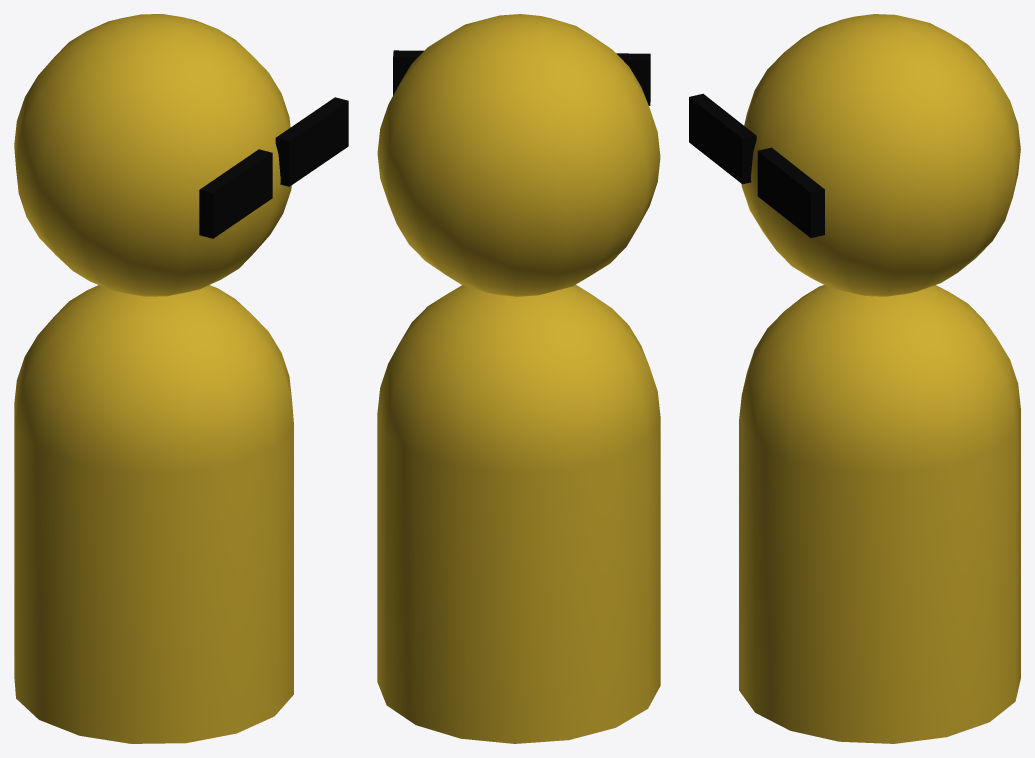
File: yellow customer.fbx
3 renders of one model, left to right at view 1: azimuth 30°, elevation 25°; view 2: azimuth 150°, elevation 25°; view 3: azimuth 270°, elevation 25°, orthographic.
Visible parts, largest first — view 1: yellow customer, right eyebrow.003; view 2: yellow customer, right eyebrow.003; view 3: yellow customer, right eyebrow.003.
Part boxes in pixels (x1,y1,x2,y2): yellow customer: (14,14,293,743); right eyebrow.003: (199,97,348,238); yellow customer: (377,14,660,743); right eyebrow.003: (393,50,650,105); yellow customer: (739,14,1020,743); right eyebrow.003: (689,93,824,237).
Size of the model in its own units: 50.3 by 112 by 51.24.
